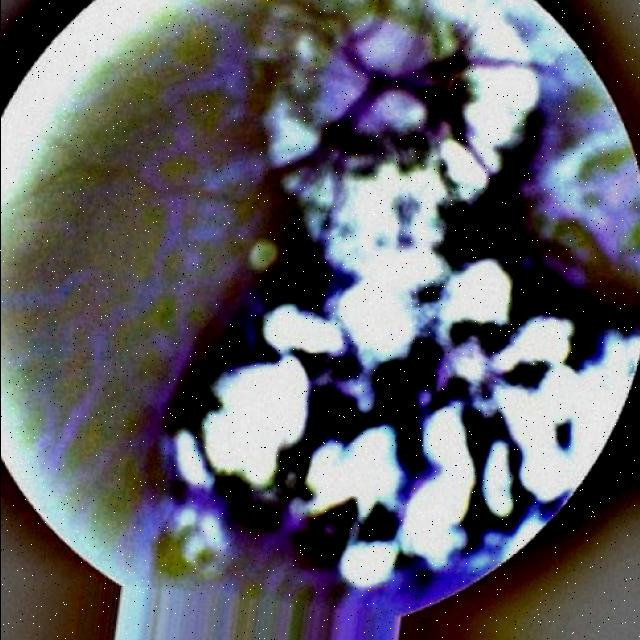Optic Disk: (325, 25, 445, 133), (350, 20, 426, 75), (360, 91, 424, 132)
